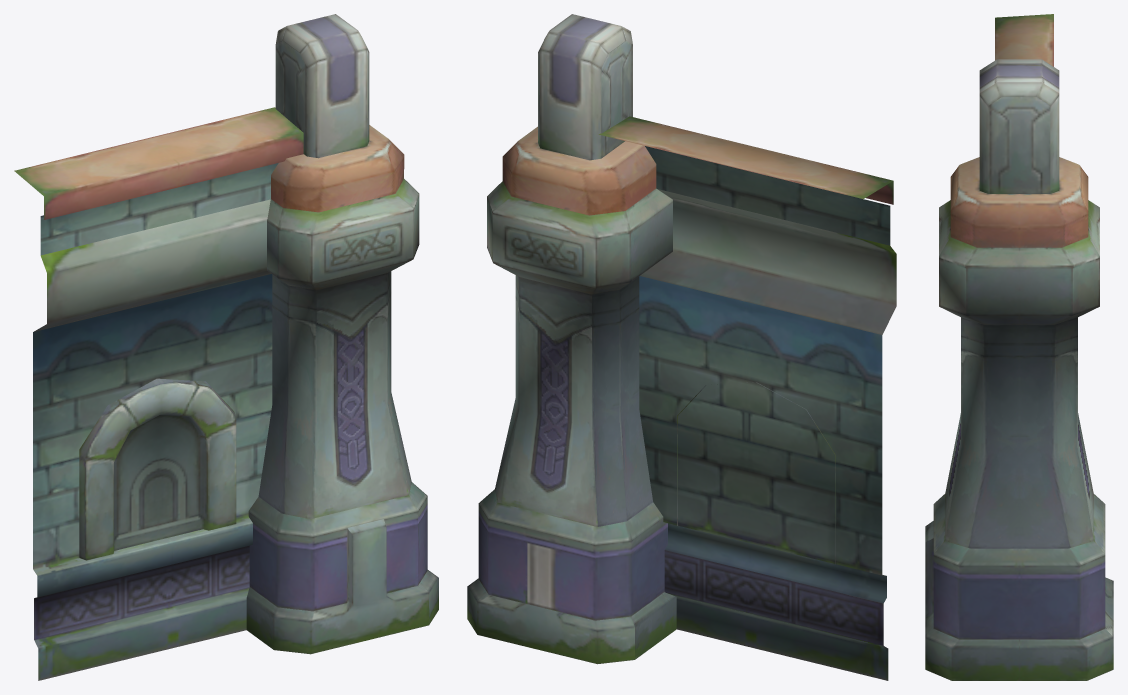
File: Map_06_gate05.FBX
3 renders of one model, left to right at view 1: azimuth 30°, elevation 25°; view 2: azimuth 150°, elevation 25°; view 3: azimuth 270°, elevation 25°, orthographic. The views are drawn at different scales.
Visible parts, largest first — view 1: Map_06_gate05; view 2: Map_06_gate05; view 3: Map_06_gate05.
Boxes of the visible parts, x1,y1,x2,y2 form: Map_06_gate05: (14,14,438,680); Map_06_gate05: (467,14,896,680); Map_06_gate05: (925,14,1113,680).
Bounding box in the file's own units: 607 × 269 × 896.
